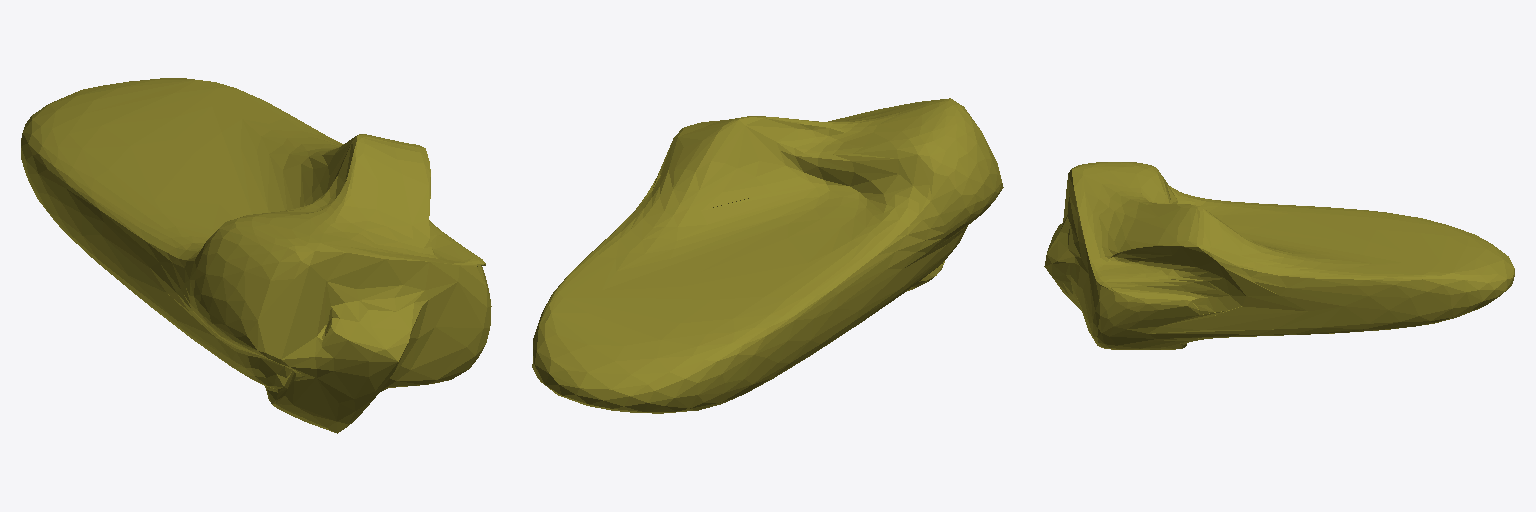
URDF robot description (blob944):

<robot name="blob944">
  <link name="random_obj_944">
    <contact>
      <lateral_friction value="1.0"/>
      <rolling_friction value="0.0"/>
      <inertia_scaling value="3.0"/>
      <contact_cfm value="0.0"/>
      <contact_erp value="1.0"/>
    </contact>
    <inertial>
      <origin rpy="0 0 0" xyz="0 0 0"/>
      <mass value="0.1491"/>
      <inertia ixx="1" ixy="0" ixz="0" iyy="1" iyz="0" izz="0"/>
    </inertial>
    <visual>
      <origin rpy="0 0 0" xyz="0 0 0"/>
      <geometry>
        <mesh filename="944.obj" scale="0.0080 0.0080 0.0080"/>
      </geometry>
      <material name="blockmat">
        <color rgba="0.59 0.56 0.22 1"/>
      </material>
    </visual>
    <collision>
      <origin rpy="0 0 0" xyz="0 0 0"/>
      <geometry>
        <mesh filename="944_coll.obj" scale="0.0080 0.0080 0.0080"/>
      </geometry>
    </collision>
  </link>
</robot>

--- What the picture shows (computed from the rendered views, not written in the file) ---
The picture shows the robot from 3 angles, left to right: view 1: azimuth 30°, elevation 25°; view 2: azimuth 150°, elevation 25°; view 3: azimuth 270°, elevation 25°; orthographic projection.
Model blob944 with 1 links and 0 joints (none), rooted at random_obj_944, posed every joint at zero.
Visible links, largest first — view 1: random_obj_944; view 2: random_obj_944; view 3: random_obj_944.
Link boxes in pixels (x1,y1,x2,y2): random_obj_944: [21, 78, 491, 433]; random_obj_944: [532, 98, 1003, 413]; random_obj_944: [1044, 162, 1514, 349].
Bounding box of the posed robot: 0.0472 × 0.1015 × 0.0359 m (x, y, z).
1 mesh visuals loaded from 1 distinct referenced files (1 OBJ).
